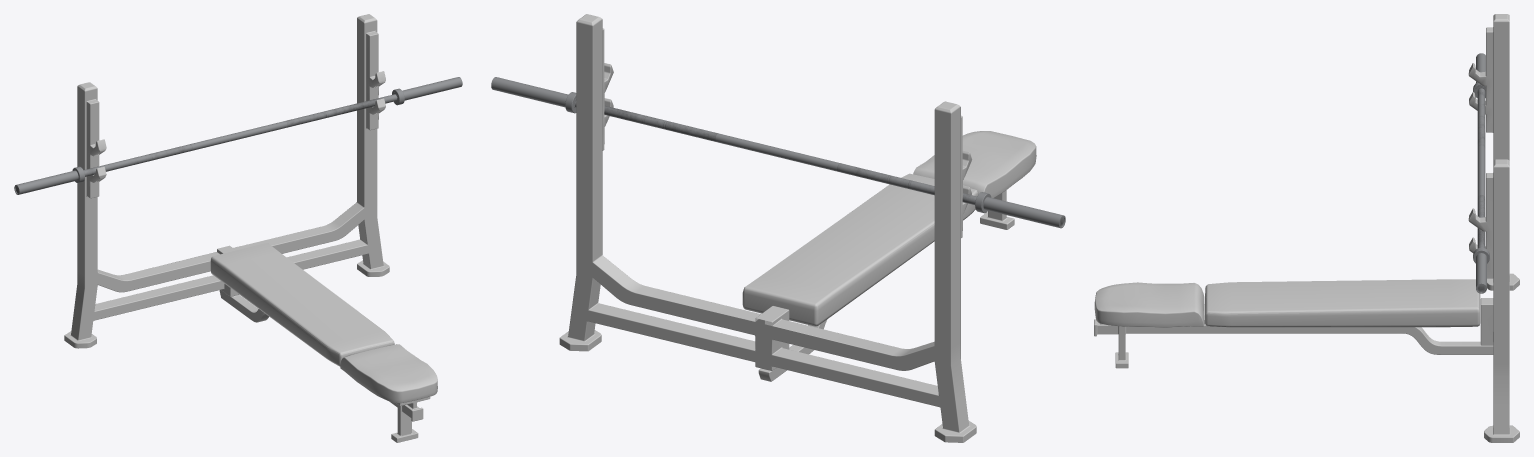
3 renders of one model, left to right at view 1: azimuth 30°, elevation 25°; view 2: azimuth 150°, elevation 25°; view 3: azimuth 270°, elevation 25°, orthographic. The views are drawn at different scales.
Parts seen in each view (by area): view 1: Cube.034, Cube.033, BARBELL low.002, Cube.032; view 2: Cube.034, Cube.033, BARBELL low.002, Cube.032; view 3: Cube.034, Cube.033, Cube.032, BARBELL low.002.
Boxes of the visible parts, <box> form: Cube.034: <box>64,14,430,442</box>; Cube.033: <box>210,243,394,366</box>; BARBELL low.002: <box>14,77,462,194</box>; Cube.032: <box>340,344,437,403</box>; Cube.034: <box>559,14,1014,442</box>; Cube.033: <box>742,173,978,326</box>; BARBELL low.002: <box>491,77,1065,228</box>; Cube.032: <box>913,131,1036,198</box>; Cube.034: <box>1094,14,1519,442</box>; Cube.033: <box>1205,279,1480,327</box>; Cube.032: <box>1094,282,1204,327</box>; BARBELL low.002: <box>1473,53,1489,293</box>.
Bounding box in the file's own units: 2.44 × 1.35 × 1.9.
